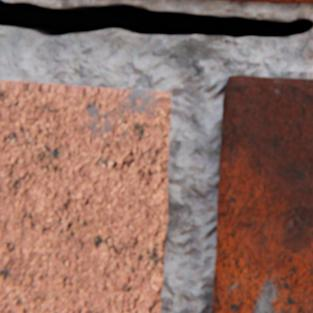brick: (0, 80, 171, 312), (212, 75, 312, 312), (223, 0, 312, 2)
crack: (0, 0, 312, 37)
